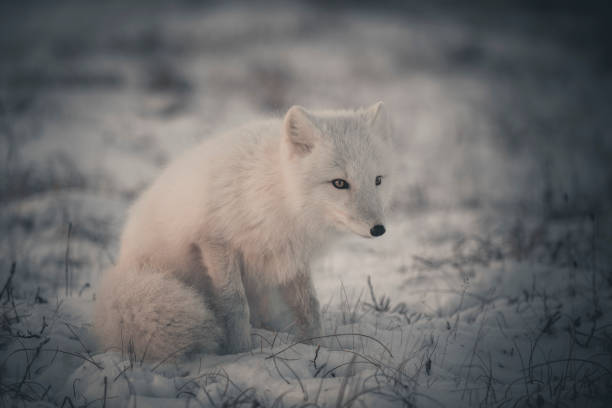arcticfox: (309, 144, 390, 252)
